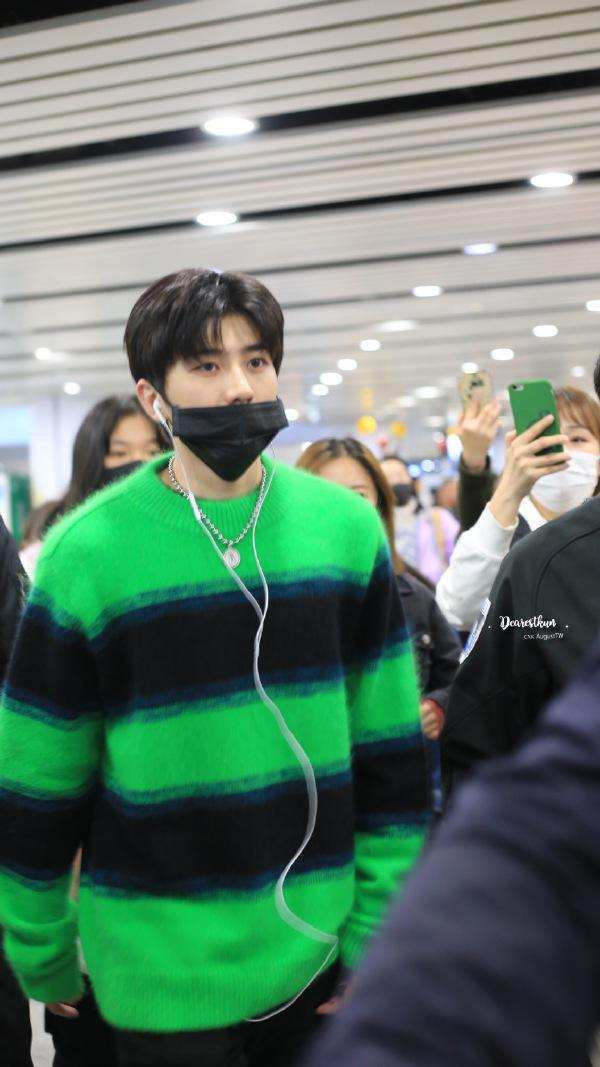OK: (530, 415, 598, 511), (94, 427, 164, 510)
WRONG: (165, 329, 279, 475)
